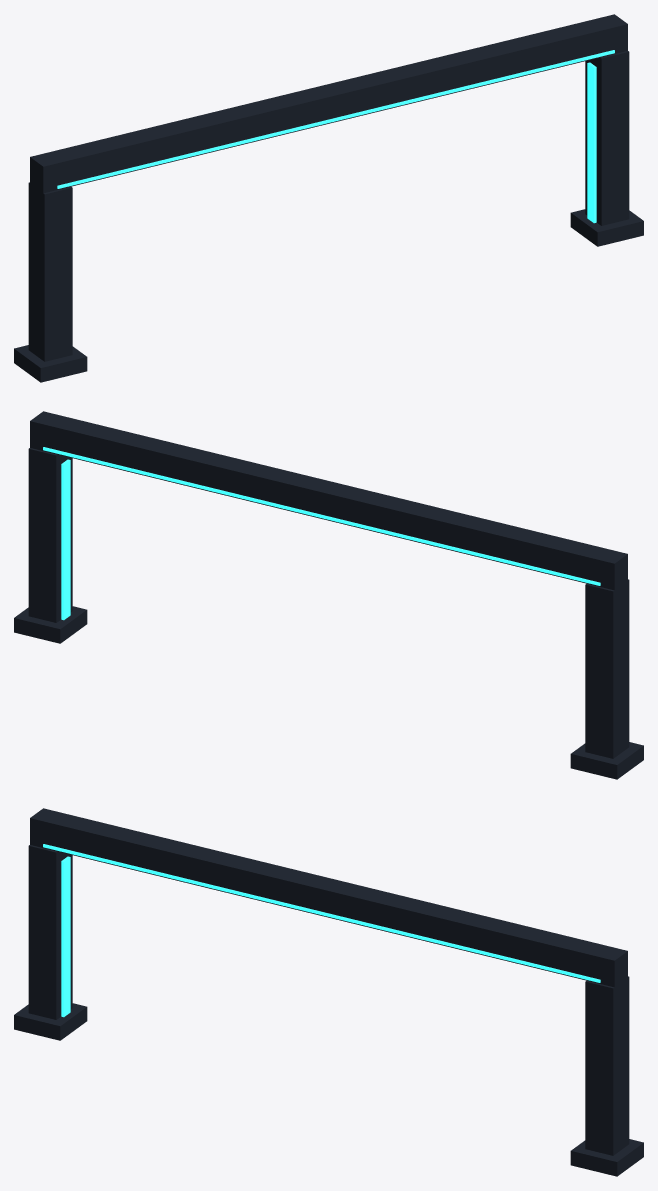
Rendered from checkpoint_gate.glb.
The picture shows the model from 3 angles, top to bottom: view 1: azimuth 30°, elevation 25°; view 2: azimuth 150°, elevation 25°; view 3: azimuth 330°, elevation 25°; orthographic projection.
Parts seen in each view (by area): view 1: gate; view 2: gate; view 3: gate.
Part boxes in pixels (box(x1,y1,x2,y2)): gate: box(14, 14, 643, 382); gate: box(14, 411, 643, 779); gate: box(14, 808, 643, 1176).
Bounding box in the file's own units: 26 × 8.6 × 2.
